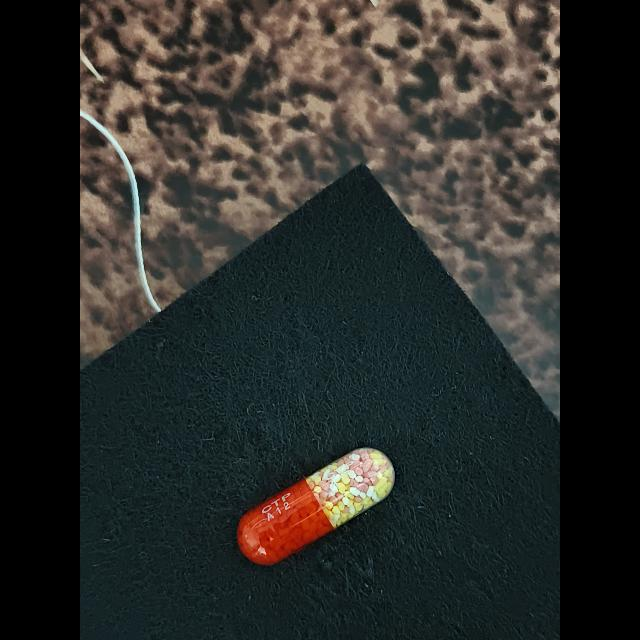Intact Capsule: (237, 447, 395, 565)
